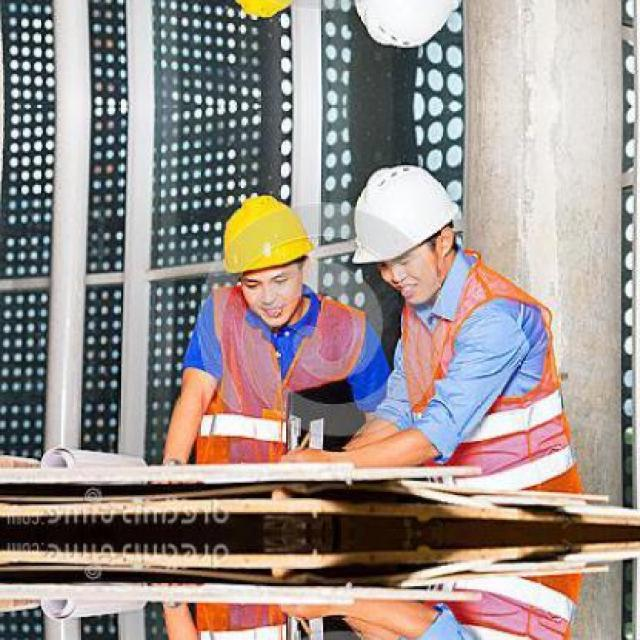reflective_jacket: (393, 266, 578, 493), (196, 288, 369, 464)
safety_helmet: (346, 158, 463, 268), (211, 189, 320, 279)
